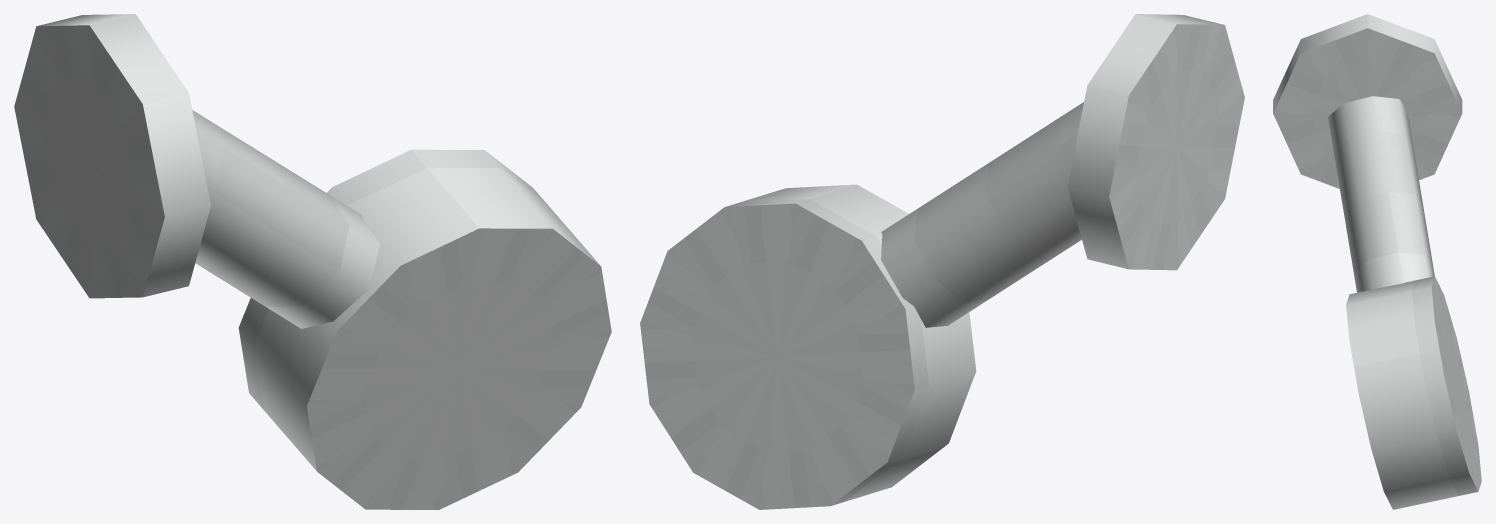
Rendered from nycsignalarm_stub_43.obj.
The picture shows the model from 3 angles, left to right: view 1: azimuth 30°, elevation 25°; view 2: azimuth 150°, elevation 25°; view 3: azimuth 270°, elevation 25°; orthographic projection. The views are drawn at different scales.
Parts seen in each view (by area): view 1: nycsignalarm_stub_43; view 2: nycsignalarm_stub_43; view 3: nycsignalarm_stub_43.
Boxes of the visible parts, x1,y1,x2,y2 form: nycsignalarm_stub_43: [14, 14, 611, 509]; nycsignalarm_stub_43: [640, 14, 1244, 509]; nycsignalarm_stub_43: [1273, 14, 1481, 509].
Size of the model in its own units: 0.7039 by 0.7588 by 0.3861.
